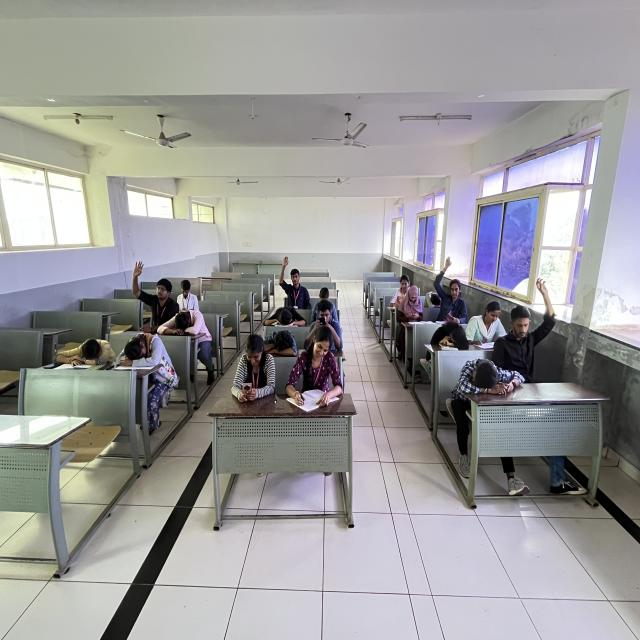Hand Rising: (500, 264, 559, 391), (125, 254, 179, 337), (430, 236, 472, 324), (271, 230, 316, 310)
Reading: (469, 290, 512, 354)
Sleeping: (115, 311, 175, 442), (455, 351, 527, 425), (154, 300, 217, 359), (74, 312, 121, 385), (431, 314, 474, 364), (262, 325, 302, 364), (258, 305, 309, 332), (420, 271, 447, 319)
Using Phone: (224, 329, 281, 416), (307, 296, 344, 348), (394, 283, 428, 339)
Writing: (289, 326, 342, 418)
